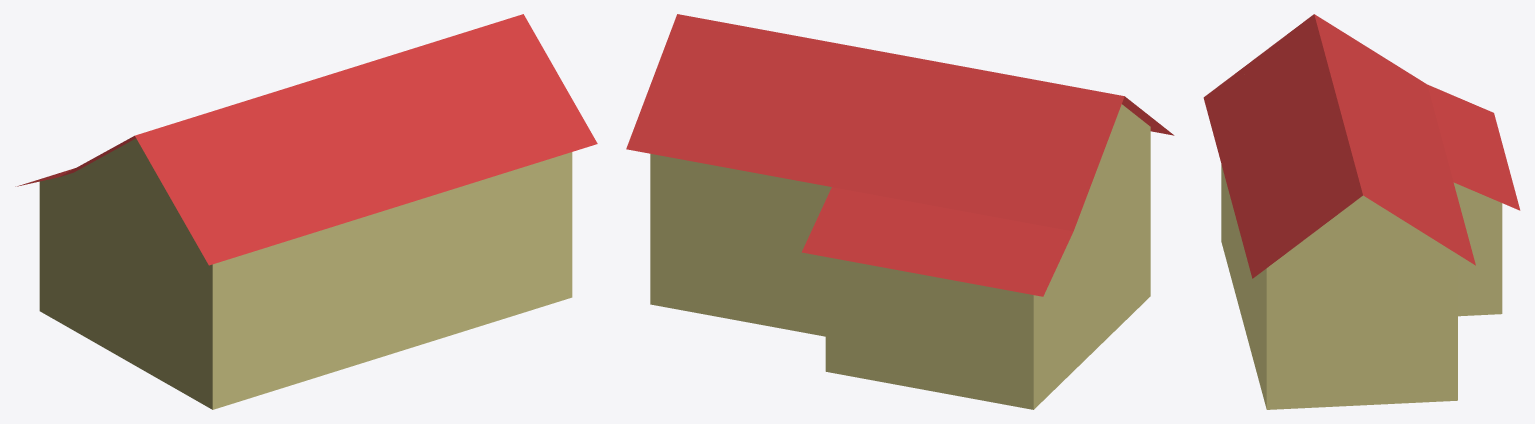
3 views of the same model, side by side, from view 1: azimuth 30°, elevation 25°; view 2: azimuth 150°, elevation 25°; view 3: azimuth 270°, elevation 25° (orthographic). The views are drawn at different scales.
Size of the model in its own units: 28.44 by 19.5 by 14.71.
